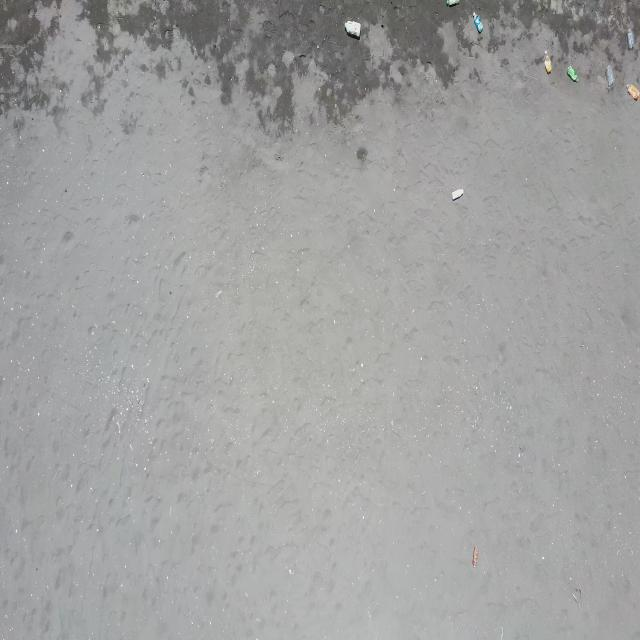Garbage: (344, 20, 360, 37), (627, 83, 639, 100), (472, 12, 482, 32), (544, 51, 551, 72), (607, 64, 613, 88), (451, 188, 463, 200), (572, 587, 580, 604), (567, 65, 576, 80), (472, 544, 477, 567), (627, 27, 632, 48), (446, 0, 459, 4)
